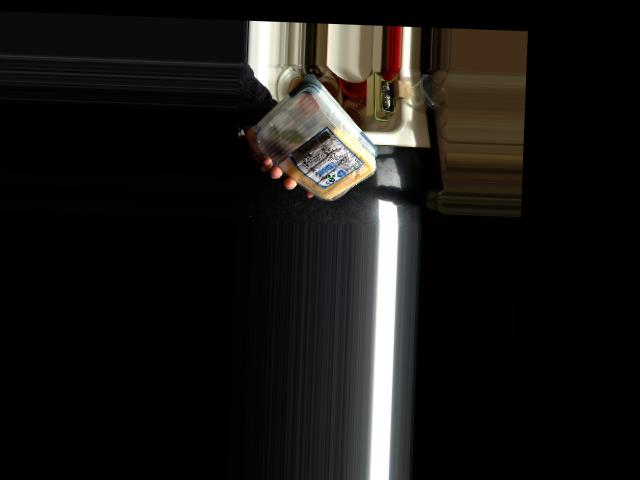cheese: (252, 90, 380, 195)
